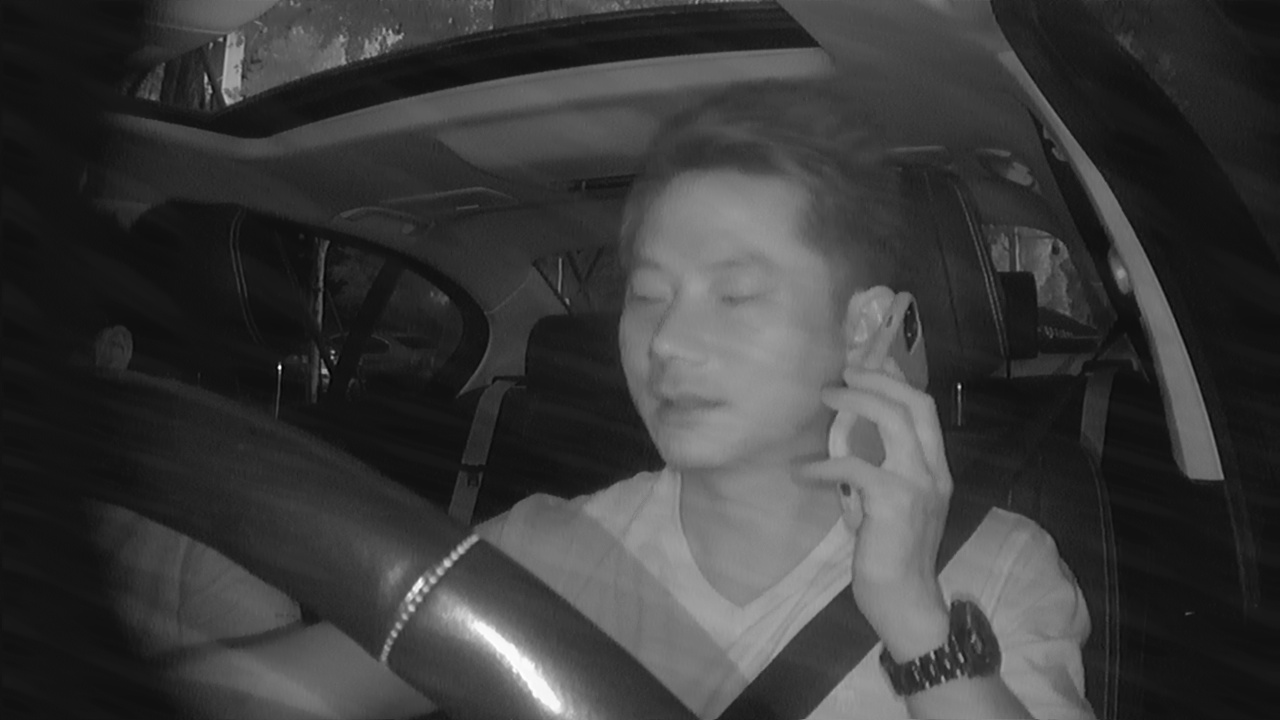hand: (796, 352, 958, 607)
